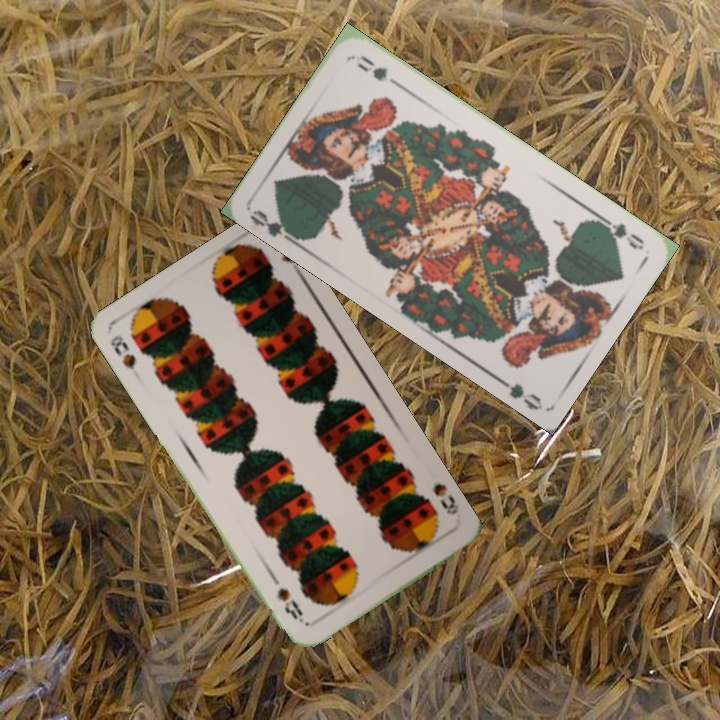GO: (246, 205, 303, 248), (591, 212, 647, 253)
S8: (106, 331, 139, 373), (429, 479, 462, 518)
